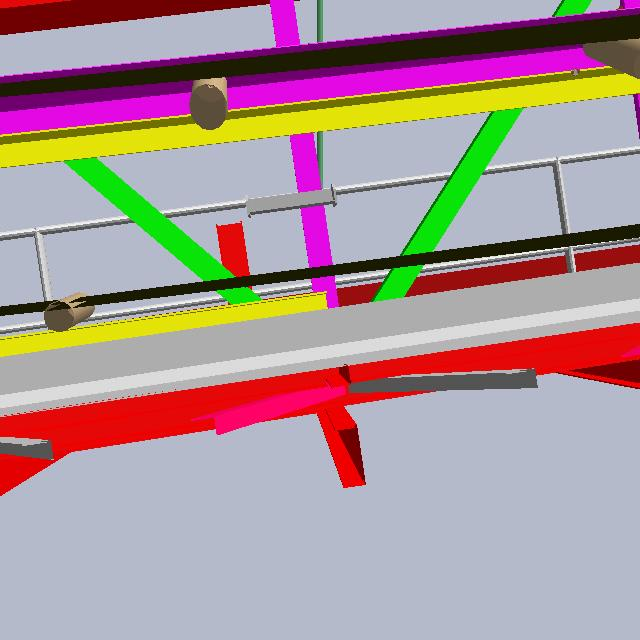Poste: (312, 1, 332, 344)
Soporte: (207, 219, 275, 396)
